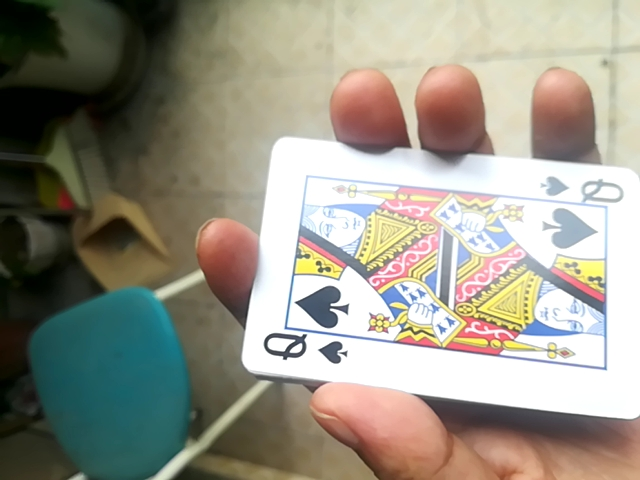ht q: (244, 136, 637, 424)
